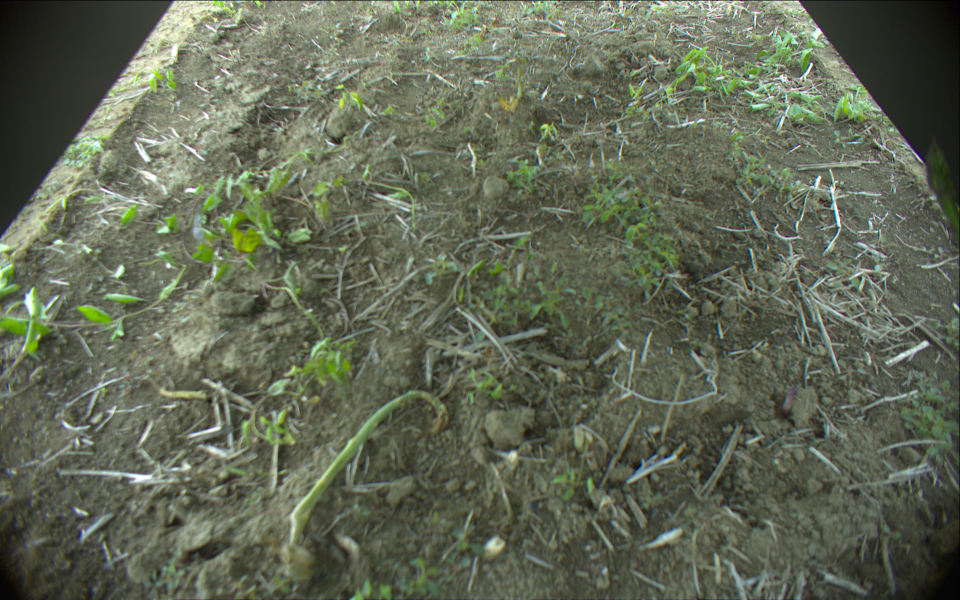aspa: (289, 390, 446, 545)
